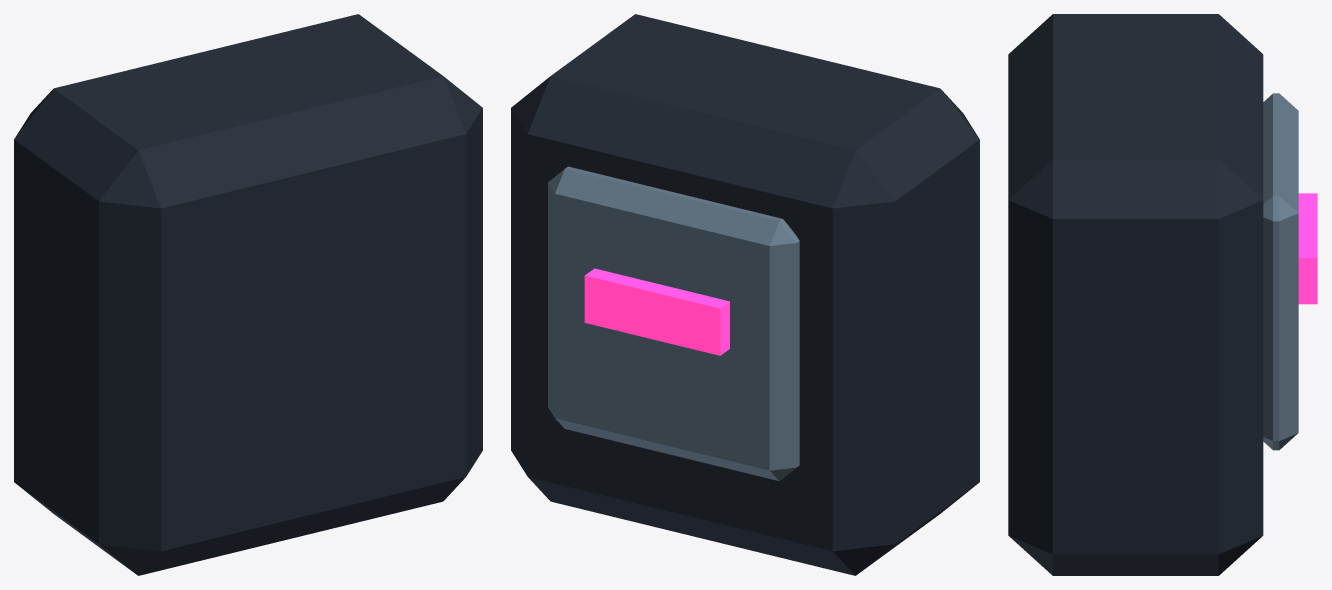
Rendered from SM_NPC_Accessory_002_DataPack.glb.
The picture shows the model from 3 angles, left to right: view 1: azimuth 30°, elevation 25°; view 2: azimuth 150°, elevation 25°; view 3: azimuth 270°, elevation 25°; orthographic projection. The views are drawn at different scales.
Visible parts, largest first — view 1: SM_NPC_Accessory_002_DataPack; view 2: SM_NPC_Accessory_002_DataPack; view 3: SM_NPC_Accessory_002_DataPack.
Boxes of the visible parts, x1,y1,x2,y2 form: SM_NPC_Accessory_002_DataPack: (14, 14, 482, 575); SM_NPC_Accessory_002_DataPack: (511, 14, 979, 575); SM_NPC_Accessory_002_DataPack: (1008, 14, 1317, 575).
Bounding box in the file's own units: 0.34 × 0.36 × 0.2425.
